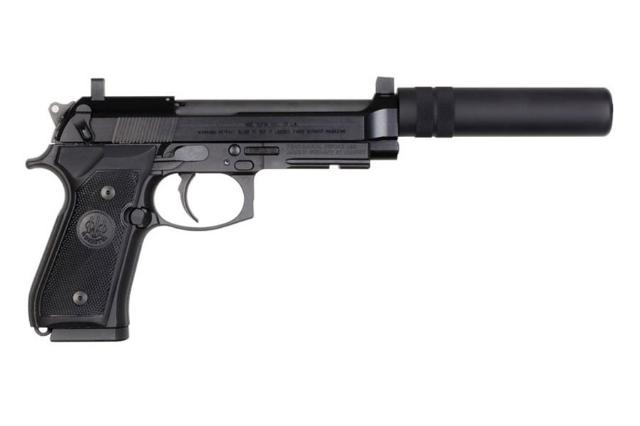handgun: (22, 74, 410, 350)
